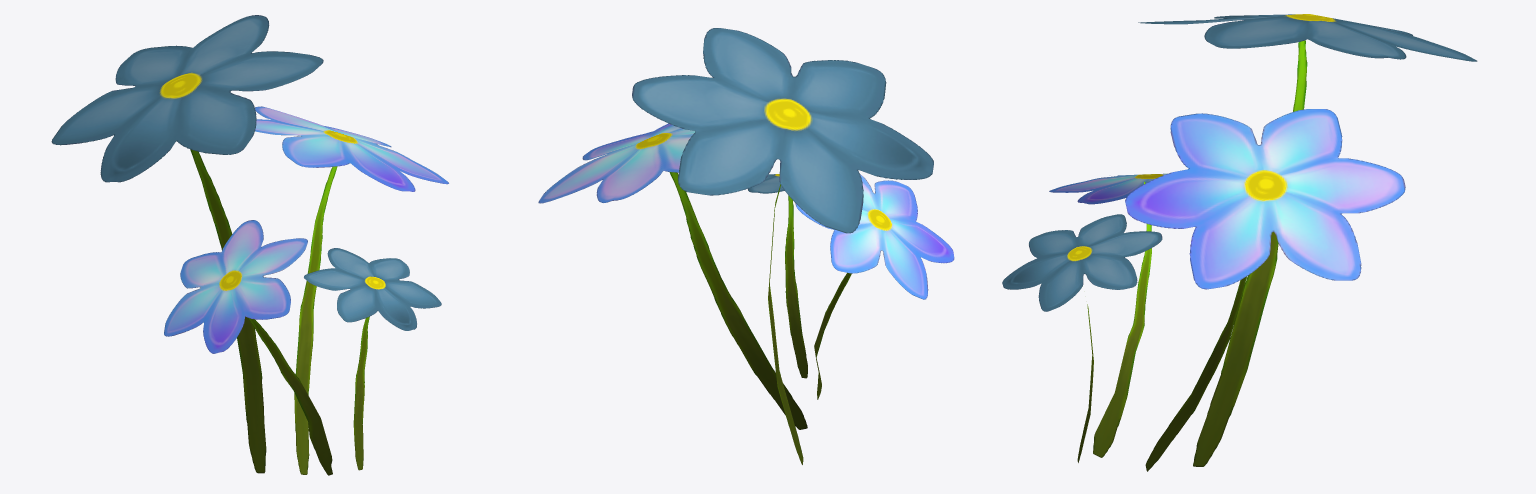
Rendered from 8_Flor_Triple.fbx.
The picture shows the model from 3 angles, left to right: view 1: azimuth 30°, elevation 25°; view 2: azimuth 150°, elevation 25°; view 3: azimuth 270°, elevation 25°; orthographic projection. The views are drawn at different scales.
Parts seen in each view (by area): view 1: Flor1.003; view 2: Flor1.003; view 3: Flor1.003.
Part boxes in pixels (box(x1,y1,x2,y2)): Flor1.003: box(51, 15, 448, 475); Flor1.003: box(538, 28, 954, 464); Flor1.003: box(1002, 14, 1477, 471).
Size of the model in its own units: 37.13 by 37.74 by 37.66.
